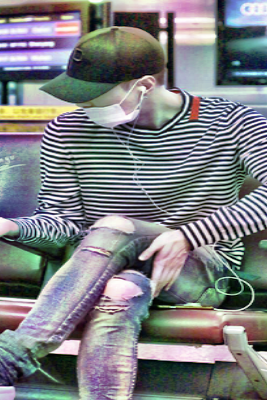mask_weared_incorrect: (76, 84, 139, 131)
